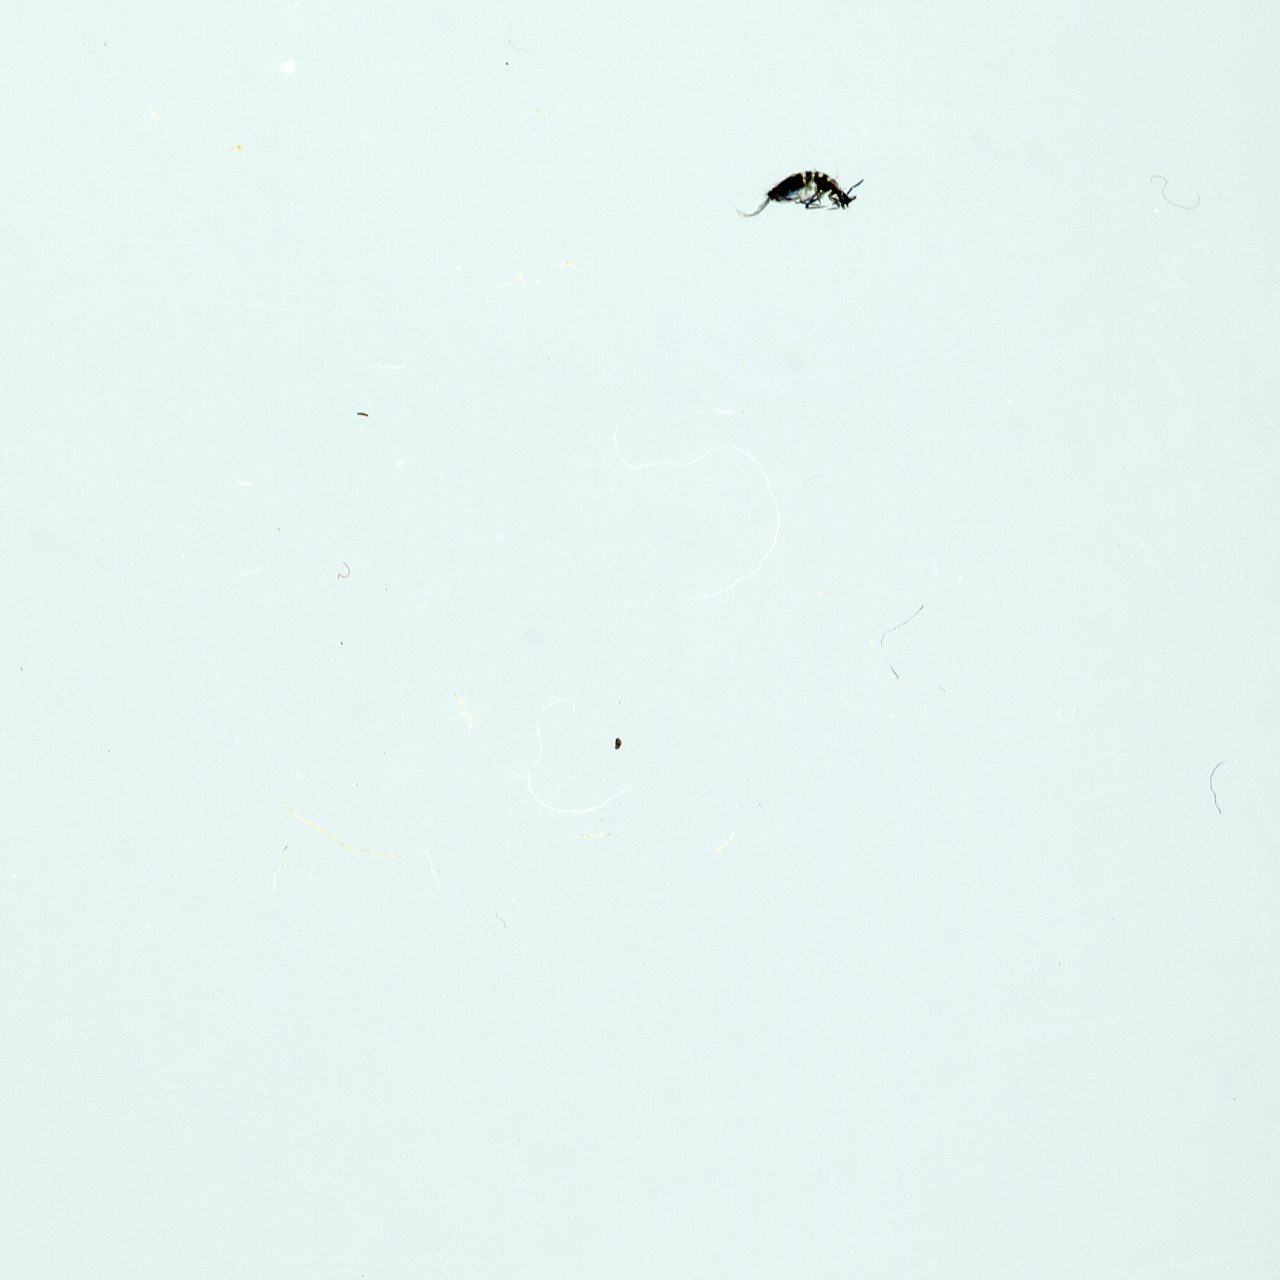arthropod: (713, 121, 932, 277)
